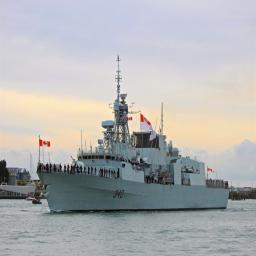Fragata: (39, 53, 231, 215)
